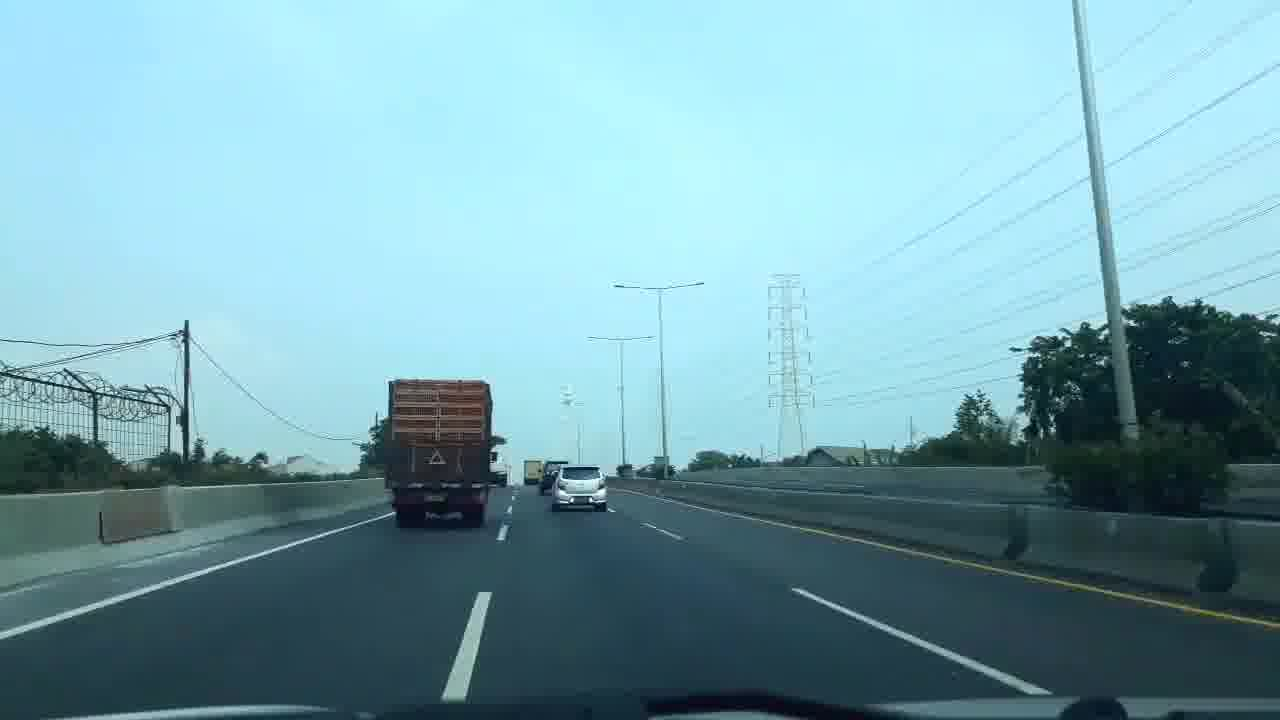plate_positive: (424, 496, 448, 503), (574, 497, 589, 504)
